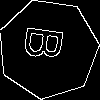B: (23, 24, 74, 64)
